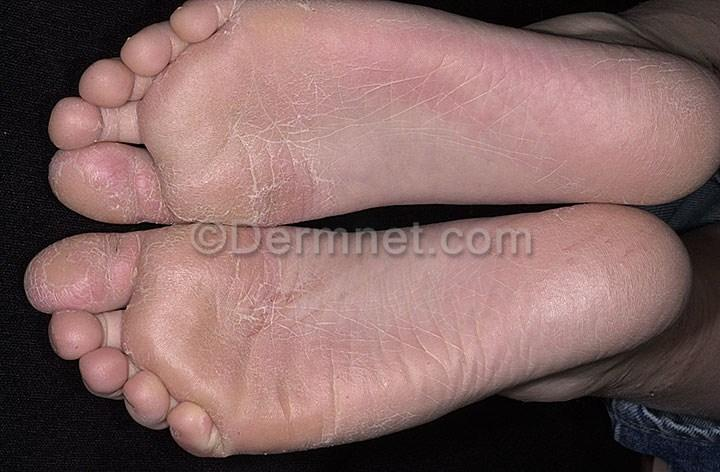Eczema: (225, 257, 329, 333), (59, 151, 173, 212), (232, 153, 326, 219), (41, 253, 166, 298), (230, 6, 320, 47)
